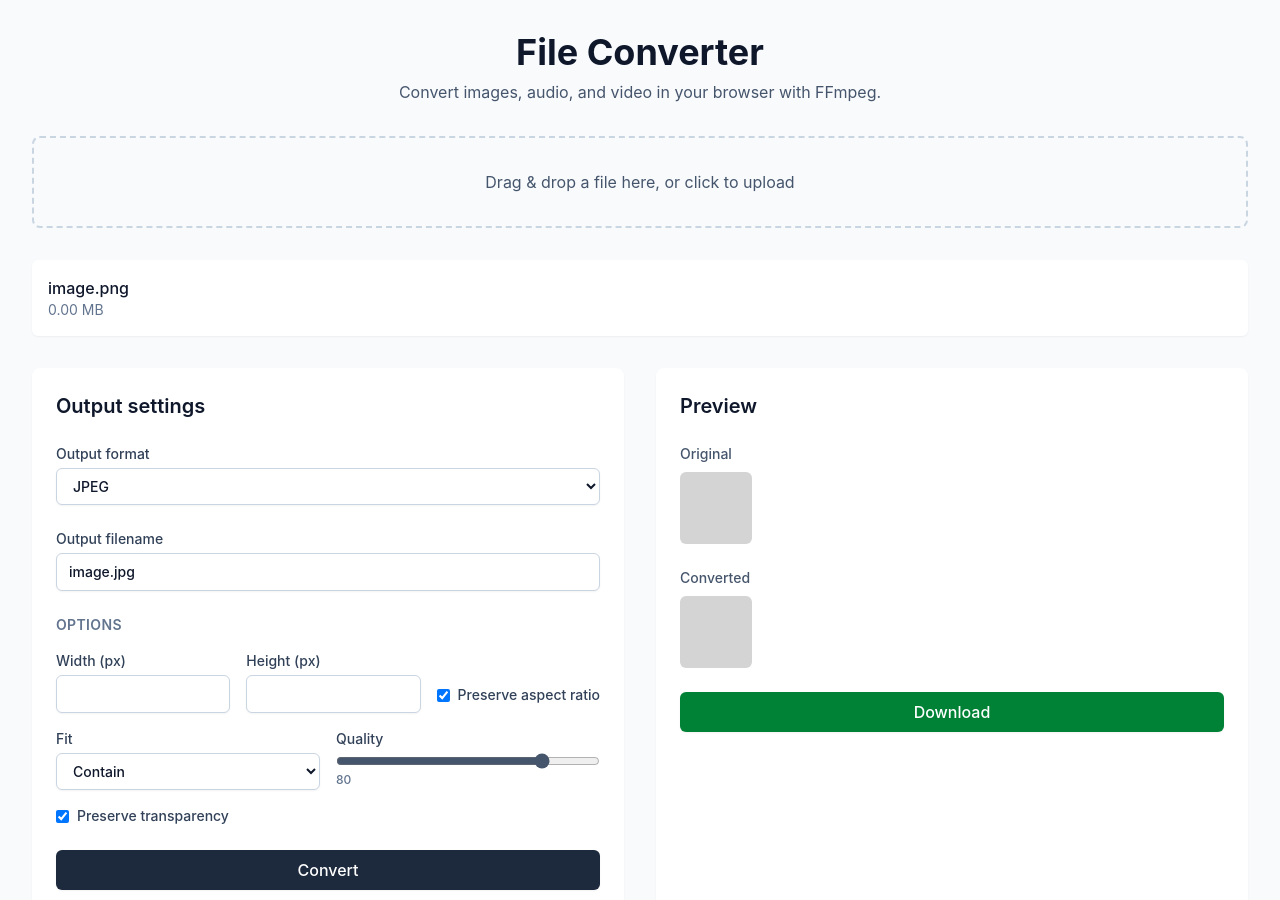
Test: FileConverter component › shows download button after a successful conversion
The image size is (1280, 900).
Click the button "Download" at {"x": 952, "y": 712}, box [680,692,1224,732]
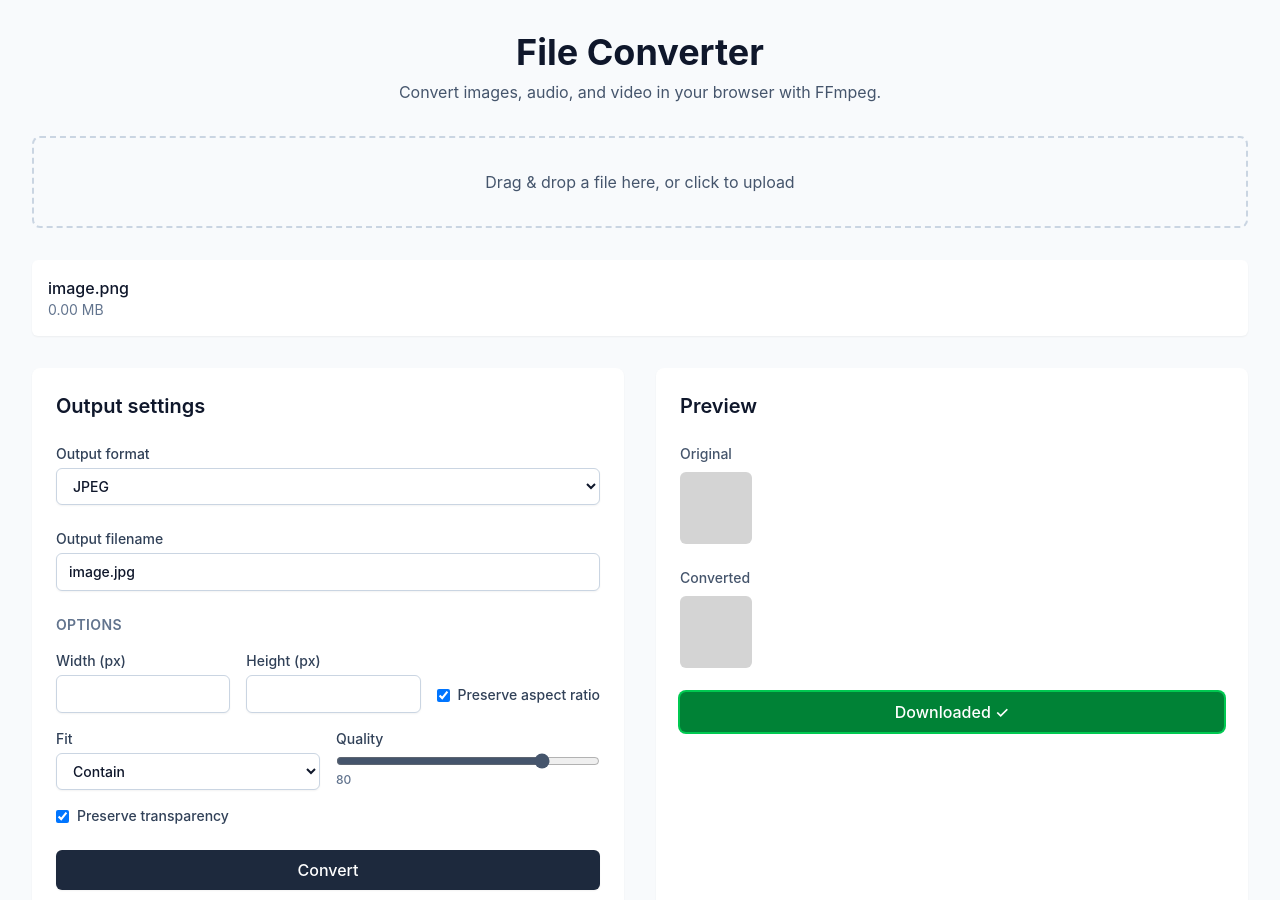
Result: the button "Downloaded ✓" is shown at [680,692,1224,732]
